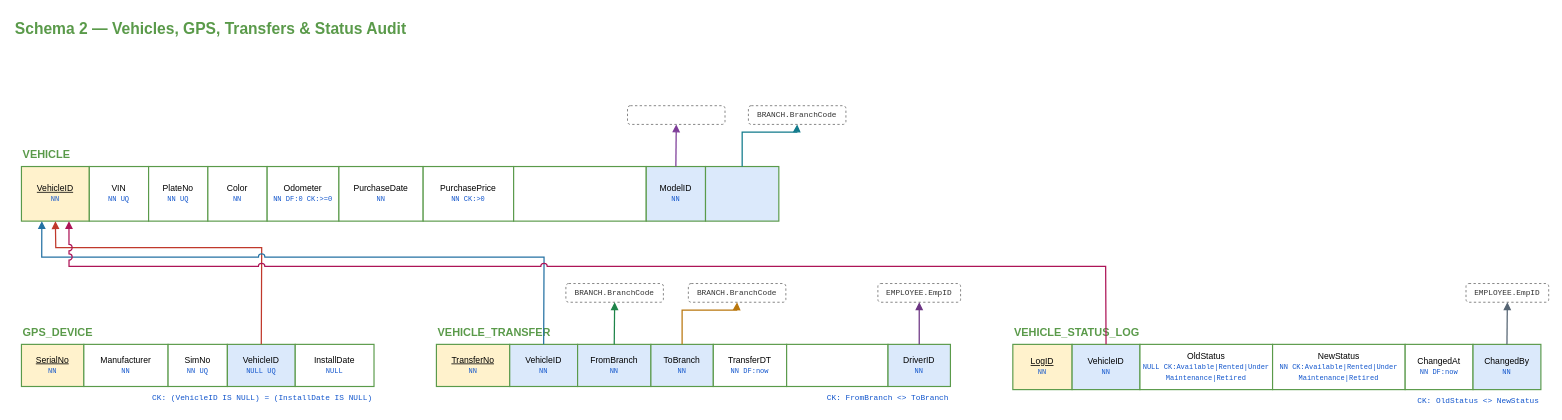
The diagram is 1562 pixels wide and 420 high, and some of its shapes have lost their labels. Each missing label, with the box of its shape:
CAR_MODEL.ModelID: (627, 105, 725, 124)
HomeBranch NN: (705, 166, 779, 221)
OdometerReading NN CK:>=0: (786, 343, 888, 387)
Status NN DF:'Available' CK:Available|Rented|Under Maintenance|Retired: (513, 166, 646, 221)
